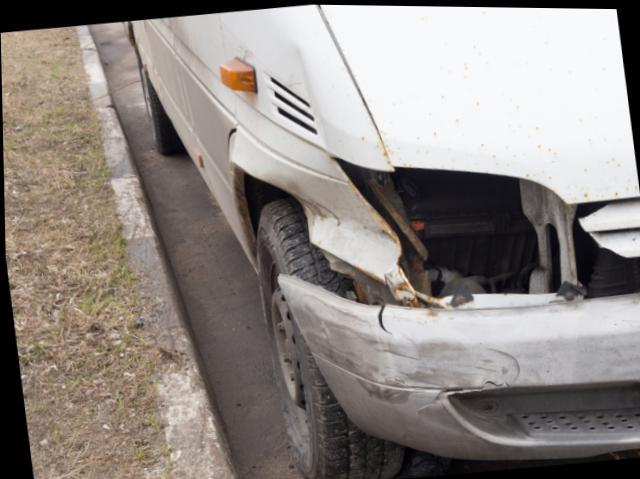crack: (393, 347, 519, 409), (377, 303, 390, 334)
dent: (290, 175, 400, 277)
no part: (339, 159, 640, 299), (447, 384, 640, 444)
scratch: (290, 289, 514, 399)
